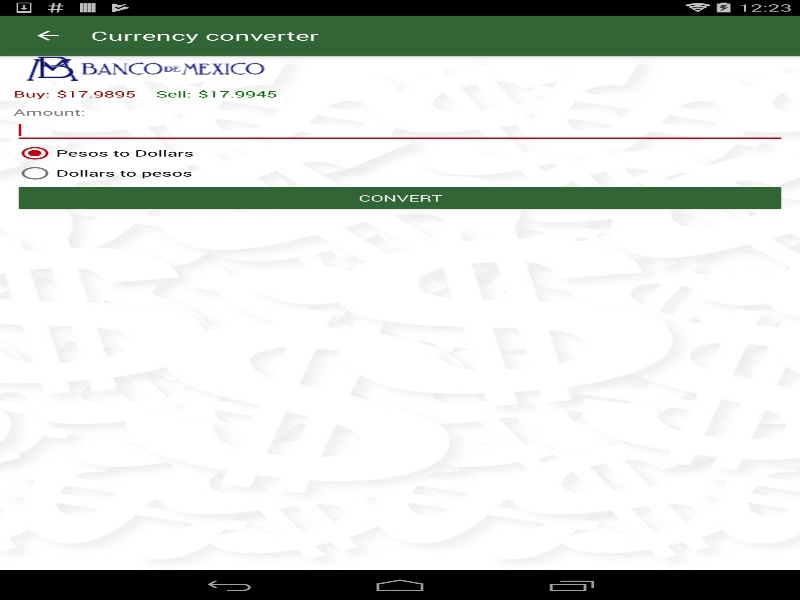Button: (13, 183, 786, 213), (10, 15, 85, 55)
Input: (13, 118, 786, 143)
